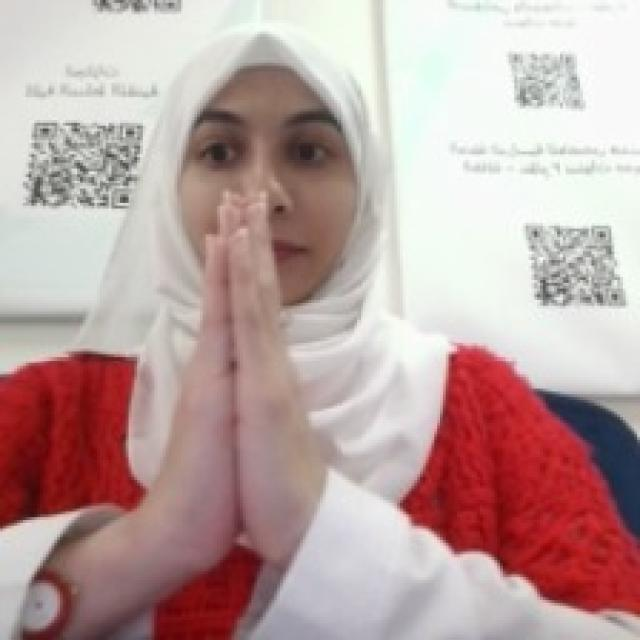sorry: (166, 205, 323, 566)
